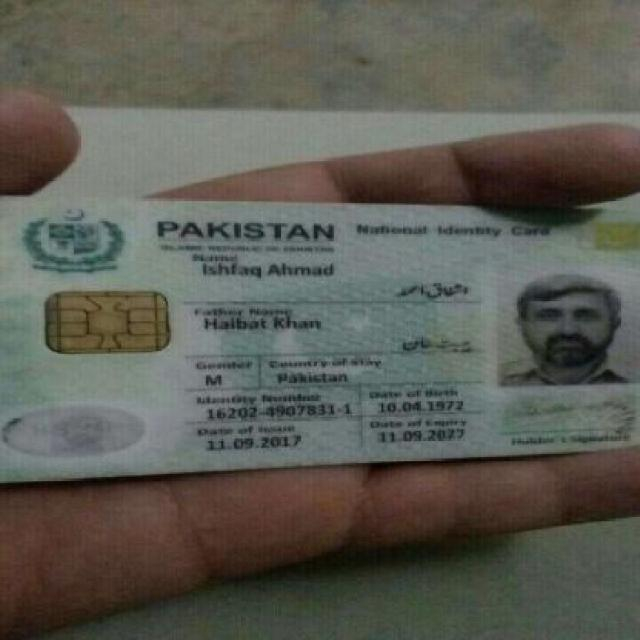Front: (6, 184, 632, 476)
